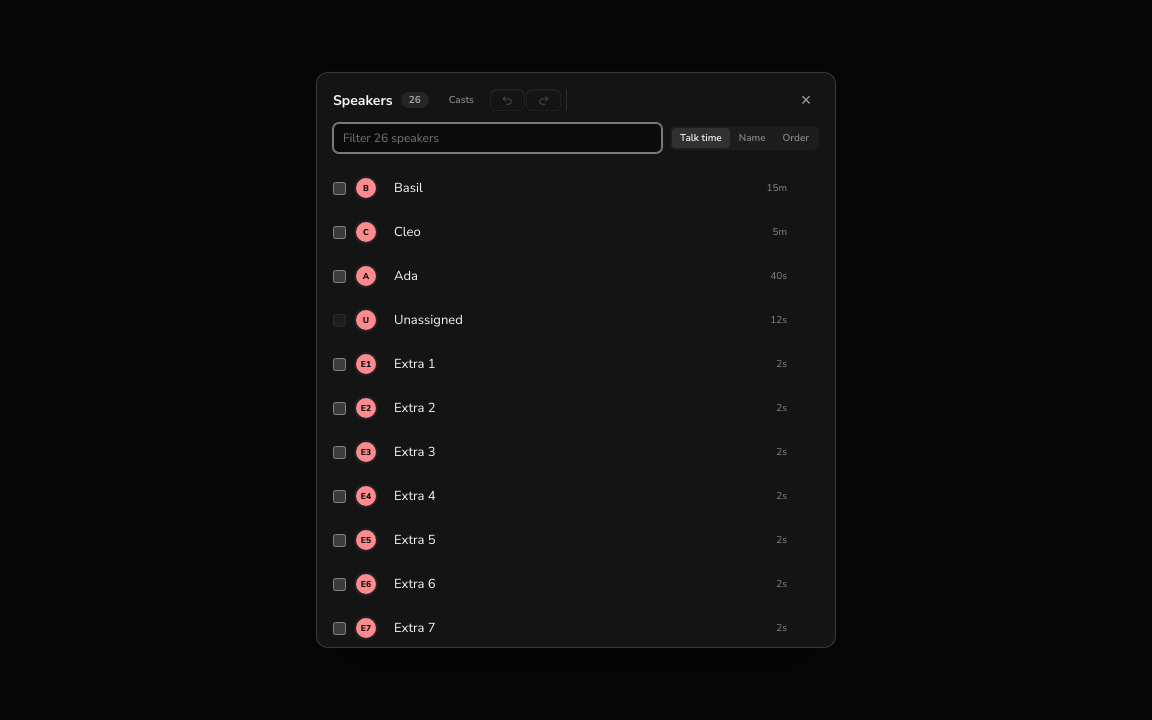
Scenario: SpeakerRosterModal at cast scale › mounts no merge control until something is selected
Click the checkbox named "Select Ada" at (340, 276), box [333, 270, 346, 282]
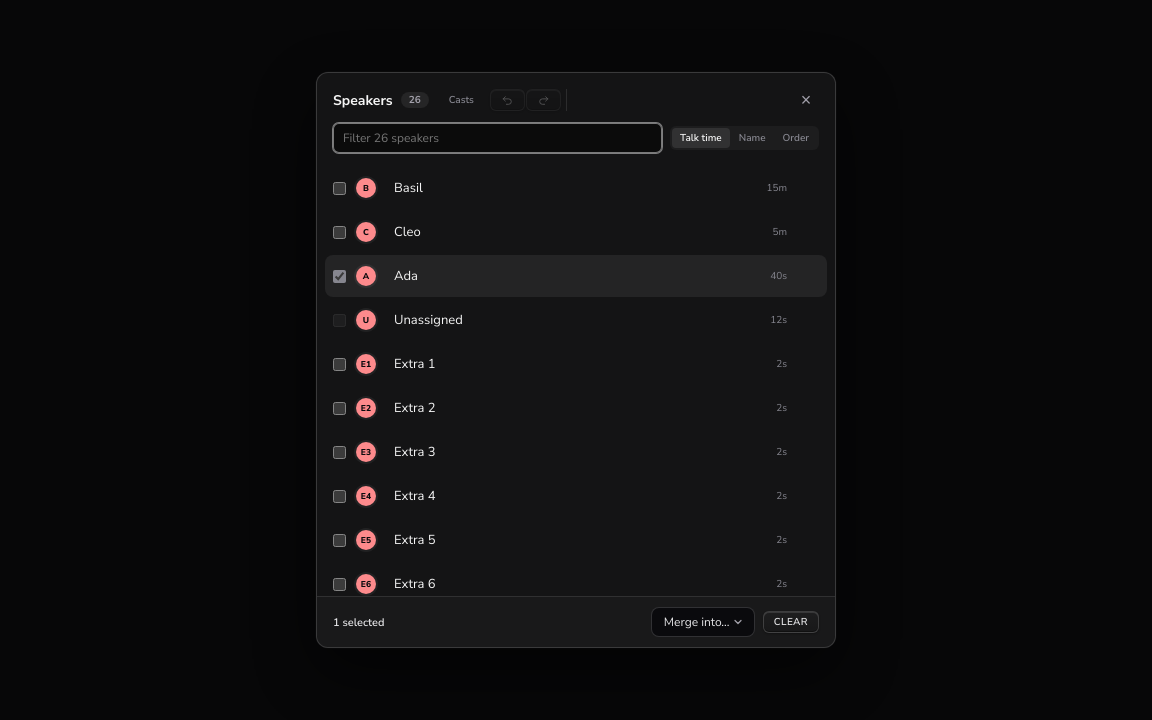
Check: the number of dropdowns is 1, box [651, 607, 755, 637]
